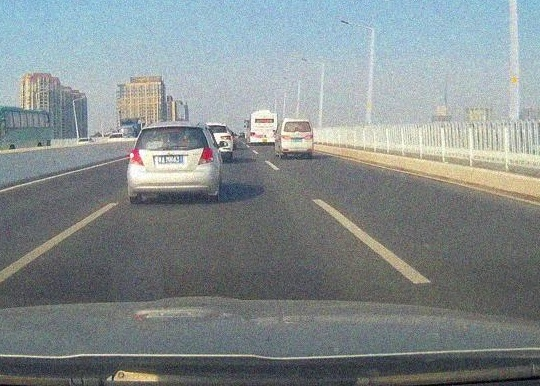L_light: (129, 148, 145, 166), (282, 134, 290, 139)
R_light: (198, 148, 214, 164), (304, 134, 313, 139)
T_light: (163, 127, 177, 129), (294, 121, 301, 123)
day-left: (126, 124, 216, 203)
day-no: (281, 118, 314, 158)
